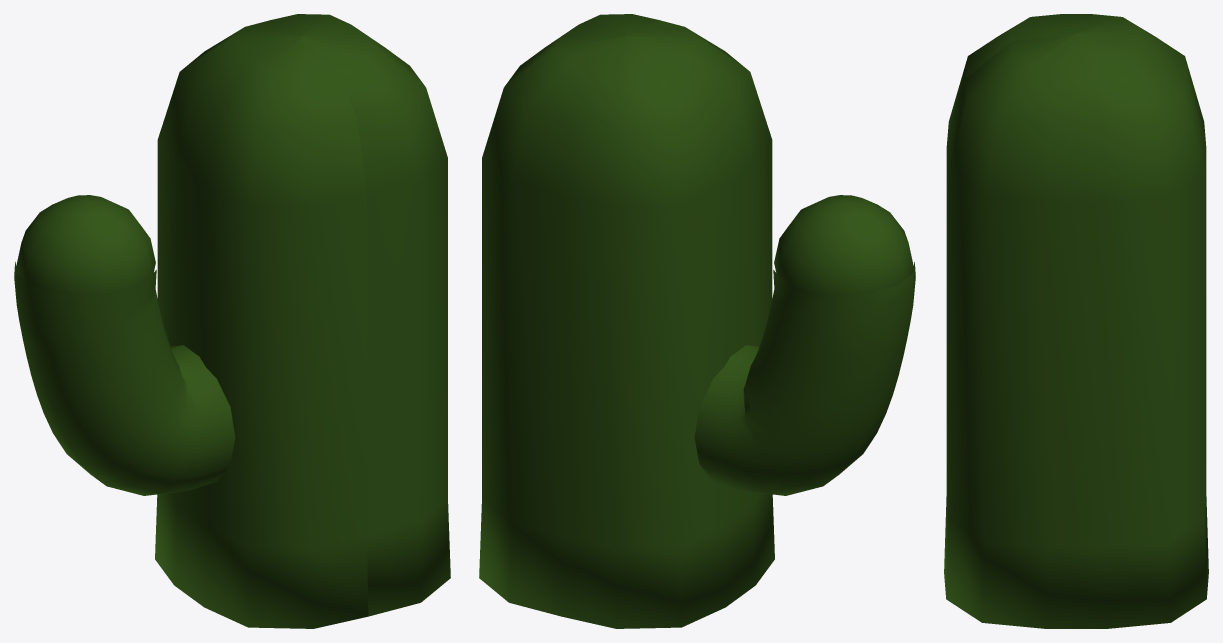
File: cactus_small.glb
3 views of the same model, side by side, from view 1: azimuth 30°, elevation 25°; view 2: azimuth 150°, elevation 25°; view 3: azimuth 270°, elevation 25° (orthographic).
Visible parts, largest first — view 1: cactus_small; view 2: cactus_small; view 3: cactus_small.
Part boxes in pixels (<box>): cactus_small: <box>14,14,450,628</box>; cactus_small: <box>479,14,915,628</box>; cactus_small: <box>944,14,1208,628</box>.
Size of the model in its own units: 0.8858 by 1.15 by 0.5123.
